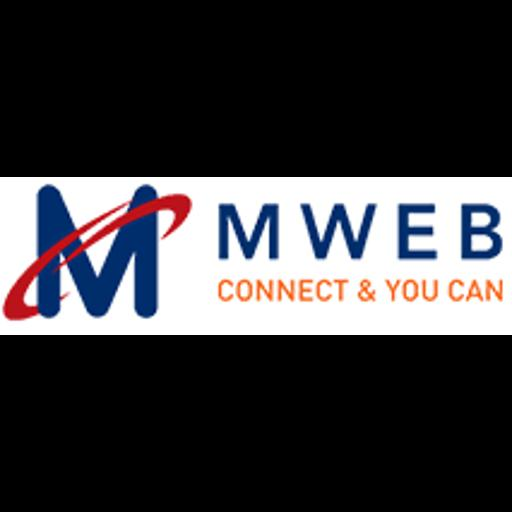MWeb: (0, 177, 512, 335)
